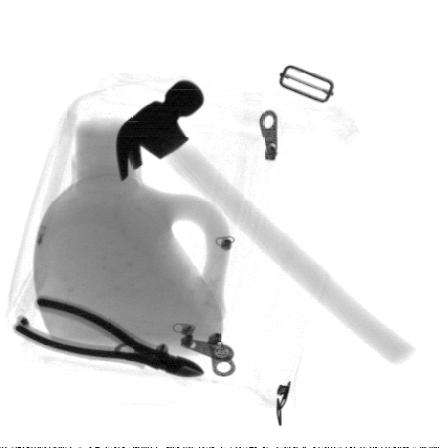Hammer: (116, 79, 416, 366)
Pliers: (13, 295, 206, 379)
